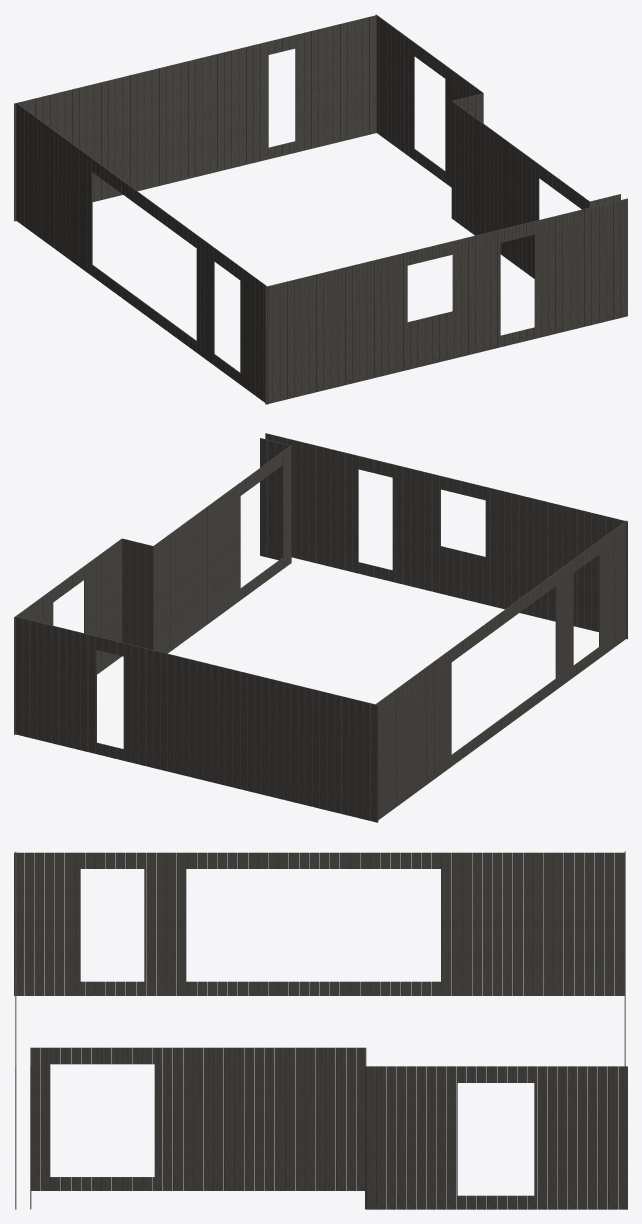
The model's file is EG_Fassade.gltf.
3 views of the same model, one above another, from view 1: azimuth 30°, elevation 25°; view 2: azimuth 150°, elevation 25°; view 3: azimuth 270°, elevation 25° (orthographic). The views are drawn at different scales.
Visible parts, largest first — view 1: holzfassade.023, holzfassade.016, holzfassade.024, holzfassade.019, holzfassade.017, holzfassade.018; view 2: holzfassade.016, holzfassade.023, holzfassade.024, holzfassade.019, holzfassade.017, holzfassade.018, holzfassade.022; view 3: holzfassade.024, holzfassade.019, holzfassade.017, holzfassade.023.
Part boxes in pixels (x1,y1,x2,y2): holzfassade.023: (265, 198, 627, 404); holzfassade.016: (14, 15, 376, 221); holzfassade.024: (16, 103, 268, 404); holzfassade.019: (452, 101, 589, 278); holzfassade.017: (375, 14, 483, 187); holzfassade.018: (451, 93, 483, 218); holzfassade.016: (15, 616, 378, 822); holzfassade.023: (265, 433, 627, 639); holzfassade.024: (376, 520, 626, 819); holzfassade.019: (153, 445, 291, 653); holzfassade.017: (14, 538, 122, 734); holzfassade.018: (122, 538, 153, 649); holzfassade.022: (260, 438, 291, 562); holzfassade.024: (14, 852, 624, 995); holzfassade.019: (30, 1047, 366, 1190); holzfassade.017: (366, 1066, 627, 1209); holzfassade.023: (15, 851, 16, 1209).
Bounding box in the file's own units: 10.02 × 3.1 × 12.06.
2 materials, 2 textured.
